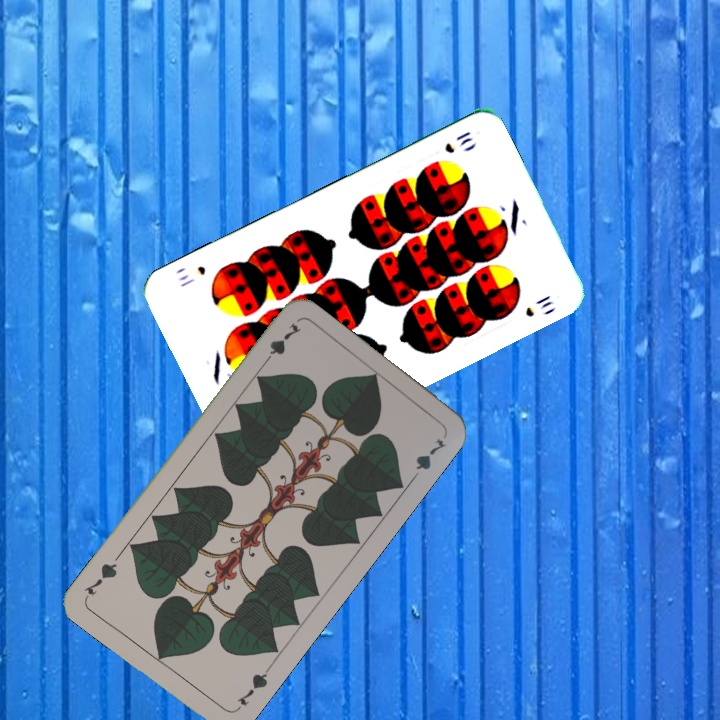G7: (258, 318, 304, 369), (231, 663, 273, 714)
S10: (440, 127, 476, 156)
